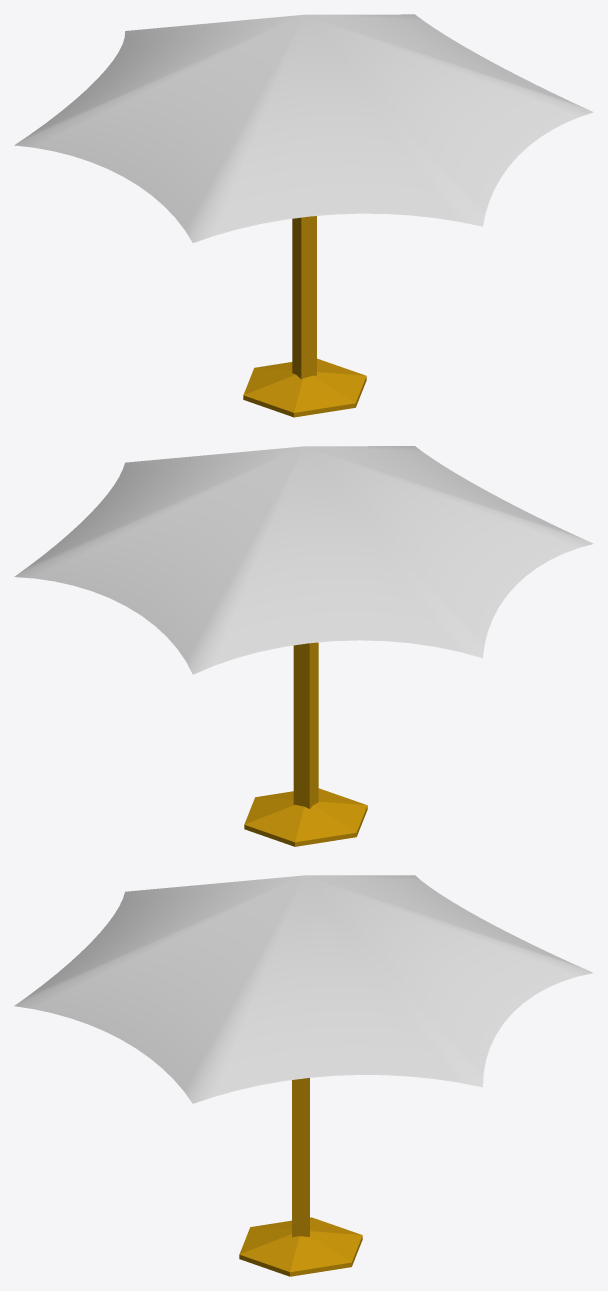
Rendered from Umbrella.glb.
3 renders of one model, top to bottom at view 1: azimuth 30°, elevation 25°; view 2: azimuth 150°, elevation 25°; view 3: azimuth 270°, elevation 25°, orthographic.
Parts seen in each view (by area): view 1: Umbrella; view 2: Umbrella; view 3: Umbrella.
Boxes of the visible parts, x1,y1,x2,y2 form: Umbrella: [14, 14, 593, 417]; Umbrella: [14, 446, 593, 846]; Umbrella: [14, 875, 593, 1276].
Size of the model in its own units: 4.14 by 3.15 by 4.43.
